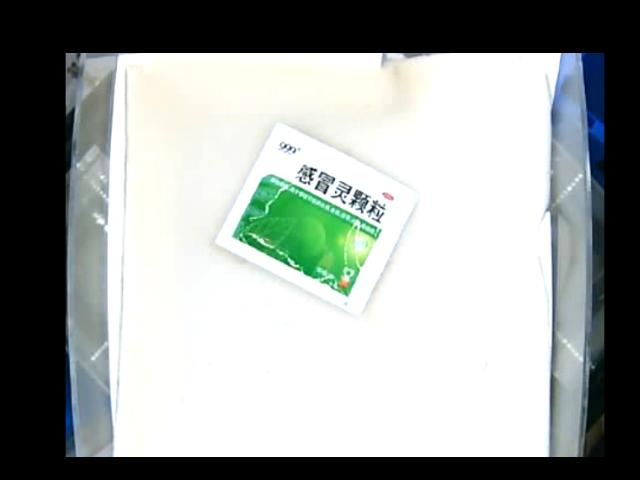Medicine: (210, 121, 413, 315)
